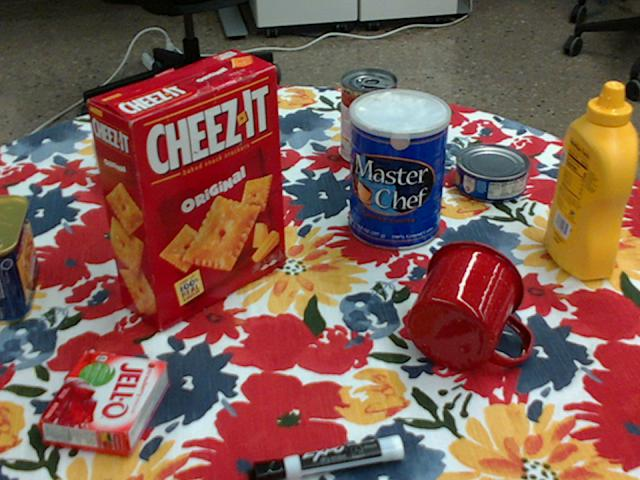cracker_box: (84, 49, 281, 329)
gelatin_box: (43, 351, 169, 455)
large_marker: (248, 434, 405, 479)
master_chef_can: (349, 89, 450, 251)
mug: (409, 240, 531, 370)
mustard_bottle: (542, 83, 635, 280)
potted_meat_can: (0, 194, 36, 322)
sugar_box: (91, 104, 256, 201)
tomato_soup_can: (340, 69, 396, 168)
tuna_fish_can: (455, 146, 530, 204)
